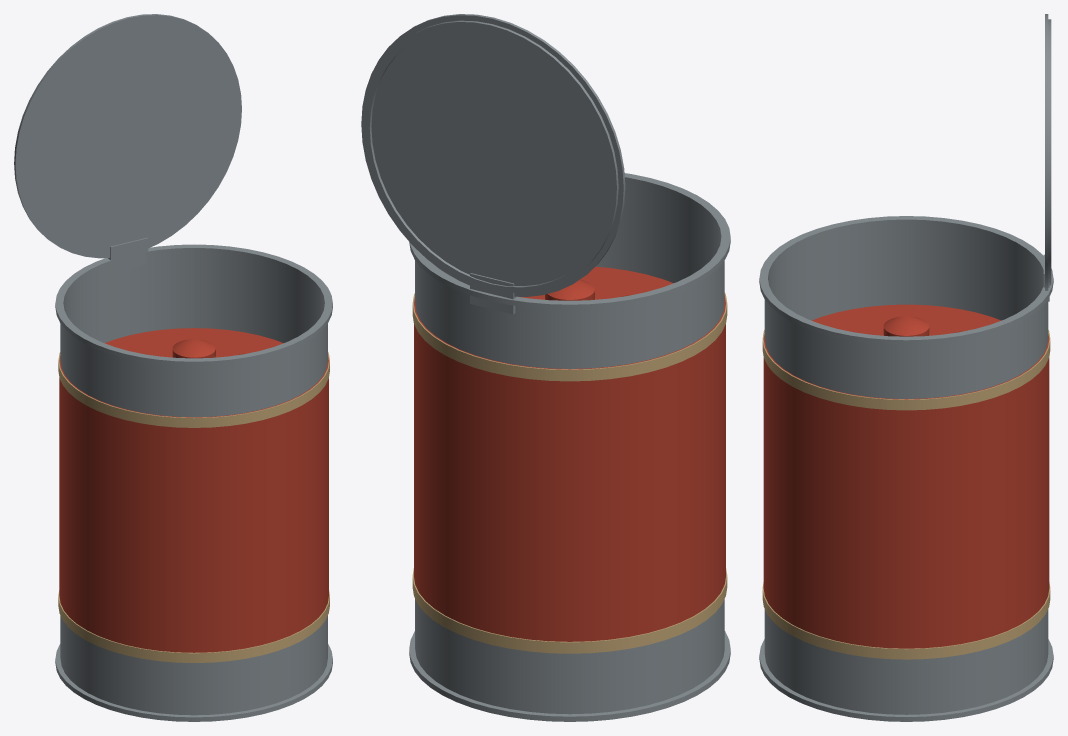
File: opened_beans.glb
The picture shows the model from 3 angles, left to right: view 1: azimuth 30°, elevation 25°; view 2: azimuth 150°, elevation 25°; view 3: azimuth 270°, elevation 25°; orthographic projection. The views are drawn at different scales.
Visible parts, largest first — view 1: body:openTin; view 2: body:openTin; view 3: body:openTin.
Part boxes in pixels (x1,y1,x2,y2): body:openTin: [14, 14, 332, 721]; body:openTin: [361, 14, 730, 721]; body:openTin: [759, 14, 1053, 721].
Size of the model in its own units: 0.0768 by 0.1824 by 0.0768.
